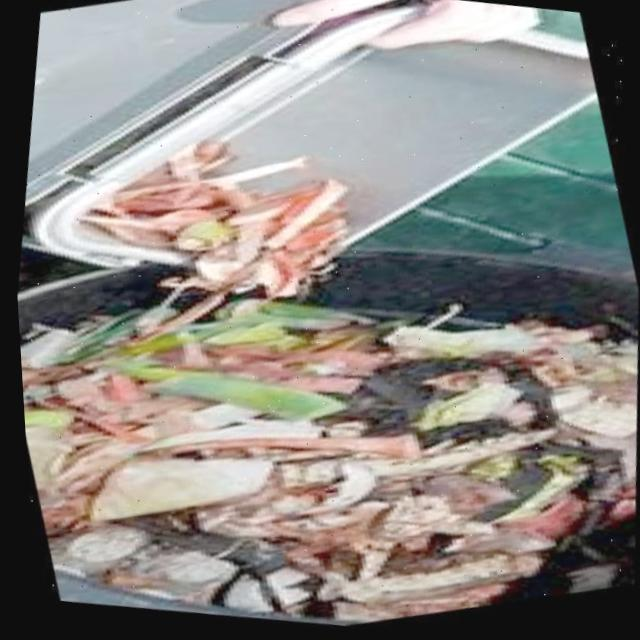Garbage: (16, 145, 637, 629)
Plastic: (123, 523, 279, 617)
